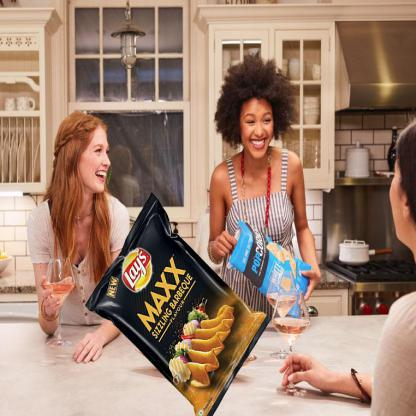maxx_sizzling_barbeque: (99, 194, 258, 412)
